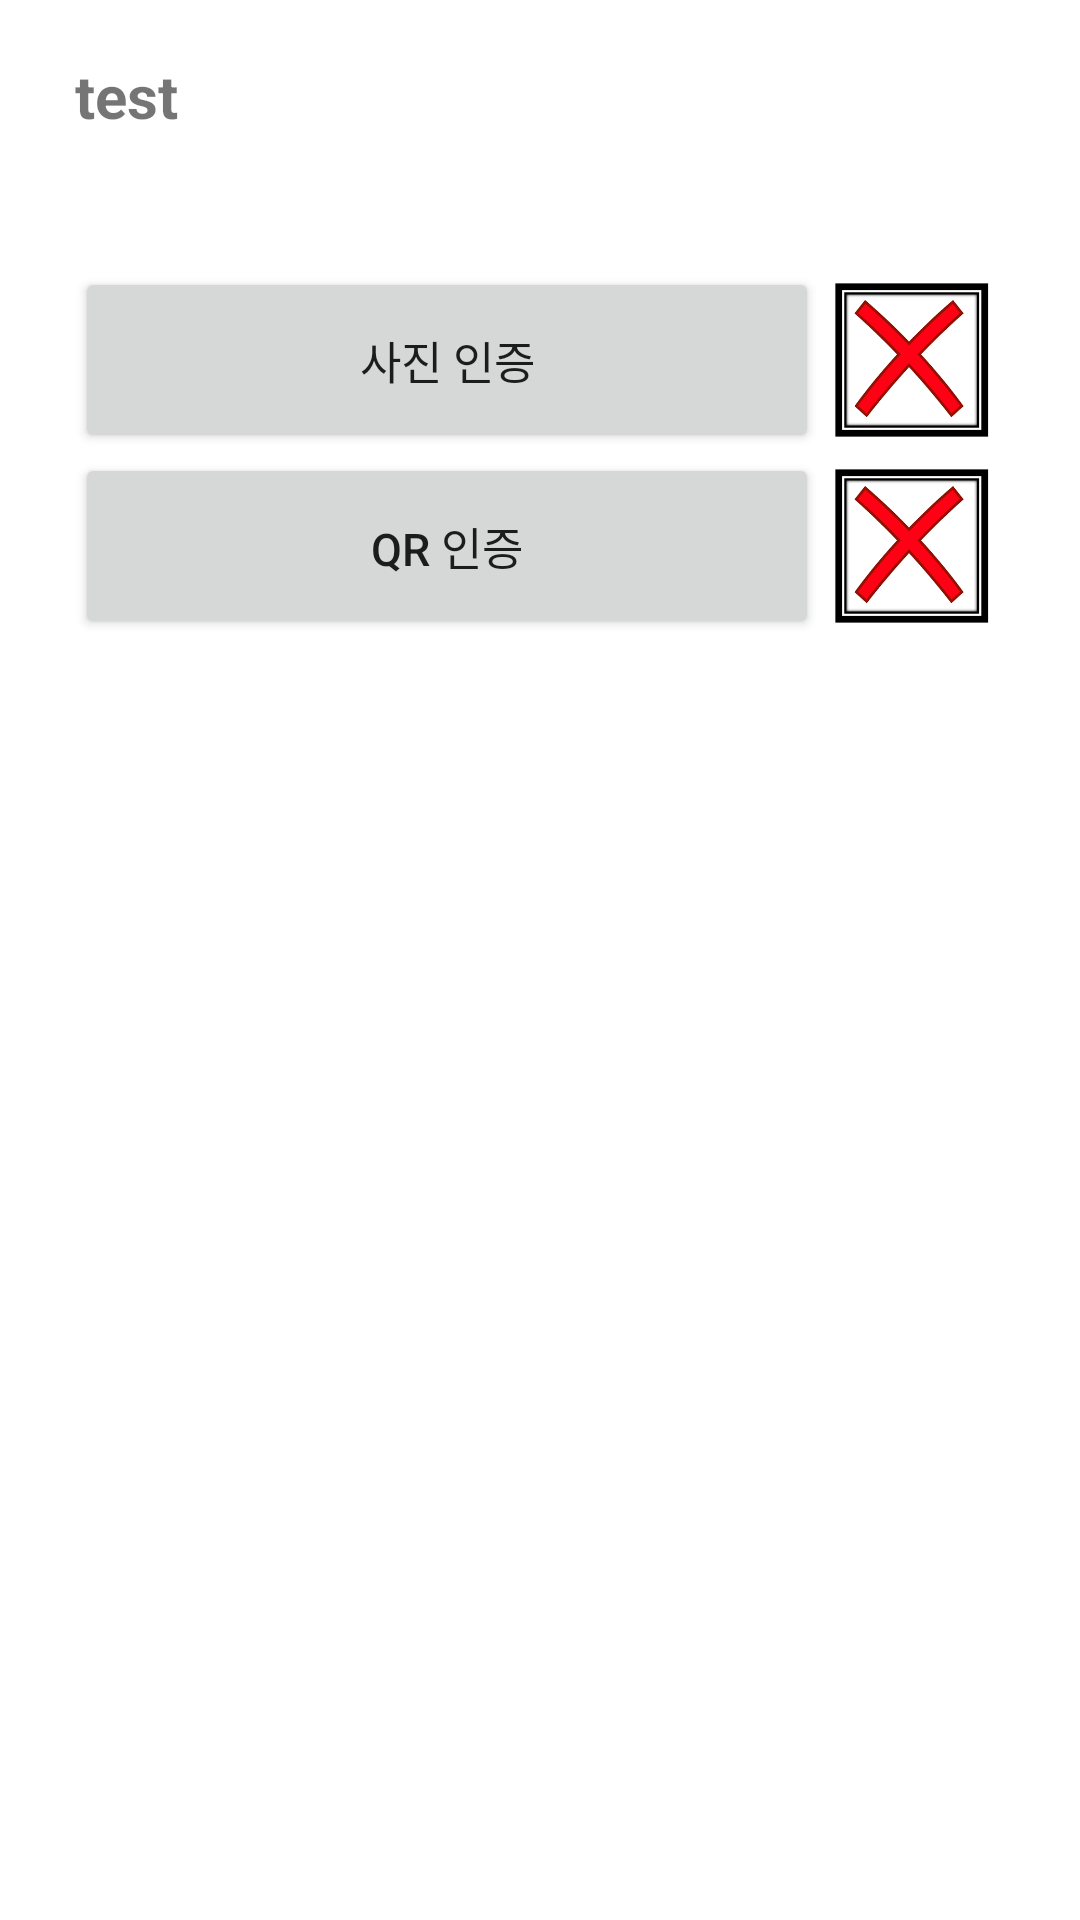

Locate icon controls on the screen. Image size 1080w x 1920h, boxes as (x1, y1, x2, y2).
check no: (835, 283, 988, 437), (835, 469, 988, 623)
